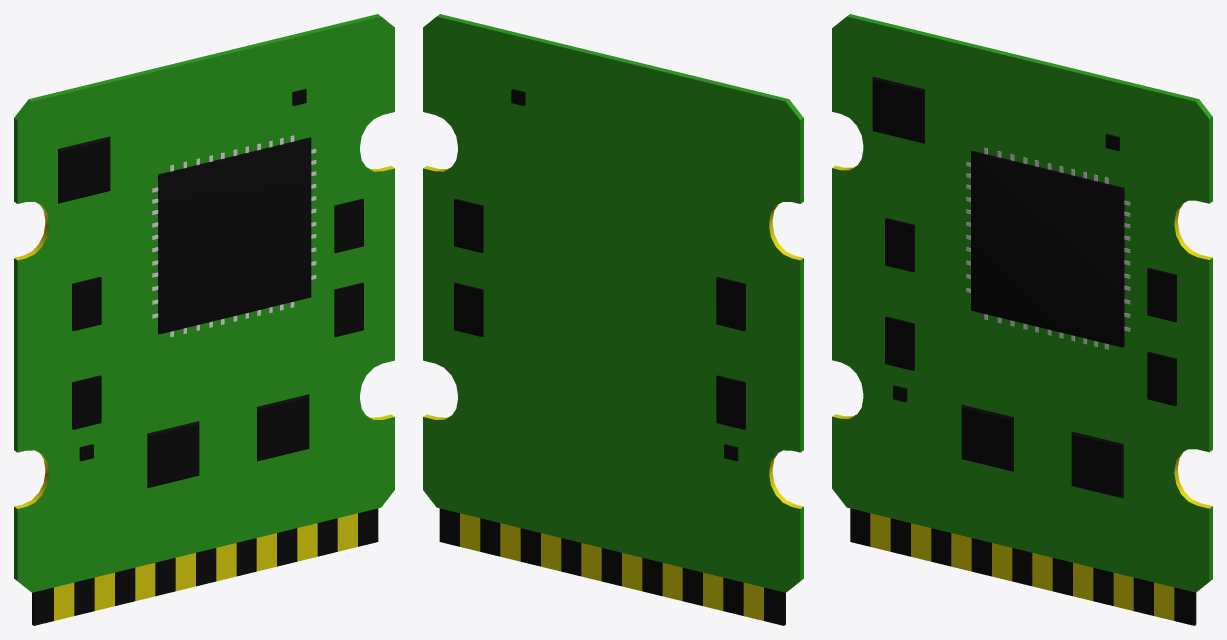
File: bms_board.glb
3 renders of one model, left to right at view 1: azimuth 30°, elevation 25°; view 2: azimuth 150°, elevation 25°; view 3: azimuth 330°, elevation 25°, orthographic.
Visible parts, largest first — view 1: Electronics board; view 2: Electronics board; view 3: Electronics board.
Part boxes in pixels (left/top/right/bottom): Electronics board: left=14, top=14, right=394, bottom=625; Electronics board: left=423, top=14, right=803, bottom=625; Electronics board: left=832, top=14, right=1212, bottom=625.
Size of the model in its own units: 1.94 by 2.59 by 0.0652.
